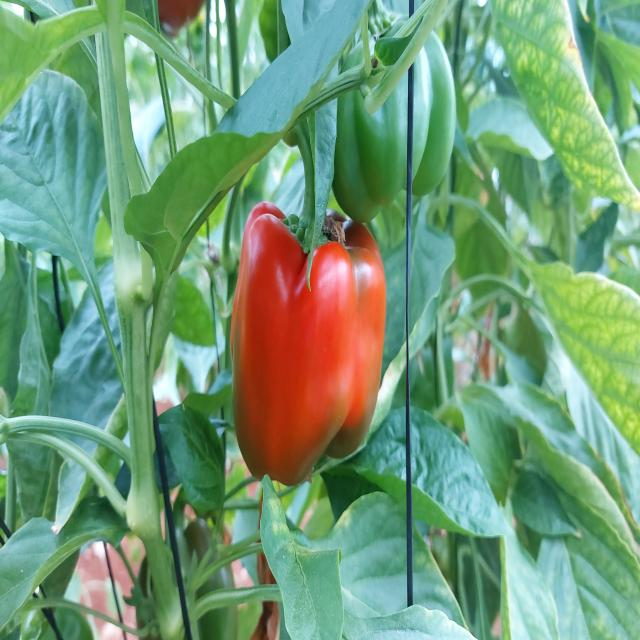Green--Not-ready-to-harvest: (331, 22, 450, 192)
Red-Ready-to-Harvest: (235, 206, 389, 502)
